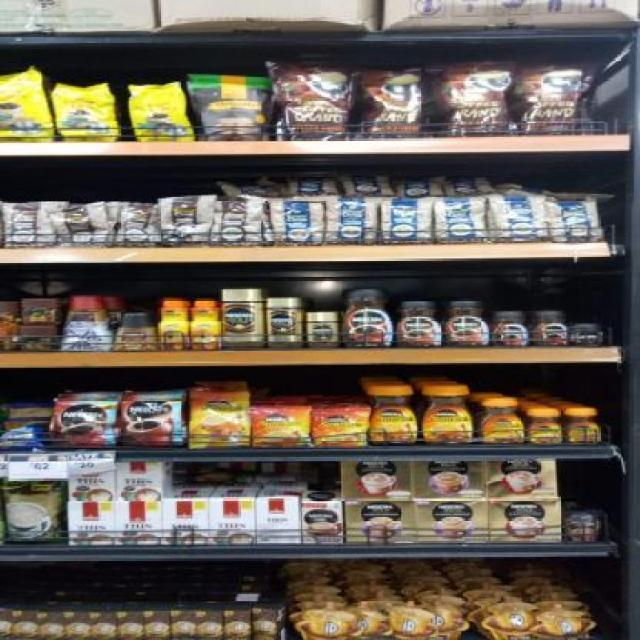Coffee: (121, 394, 185, 448), (190, 392, 248, 449), (424, 384, 475, 446), (54, 399, 116, 449), (371, 384, 418, 446), (345, 289, 392, 348), (223, 289, 266, 348), (252, 407, 310, 447), (479, 397, 524, 444), (397, 301, 441, 348), (313, 408, 366, 446), (446, 301, 488, 347), (269, 299, 303, 350), (159, 299, 189, 350), (194, 299, 221, 349), (527, 408, 562, 444), (566, 408, 600, 444), (494, 311, 528, 346), (308, 312, 340, 348), (534, 311, 566, 346), (570, 323, 604, 346)
